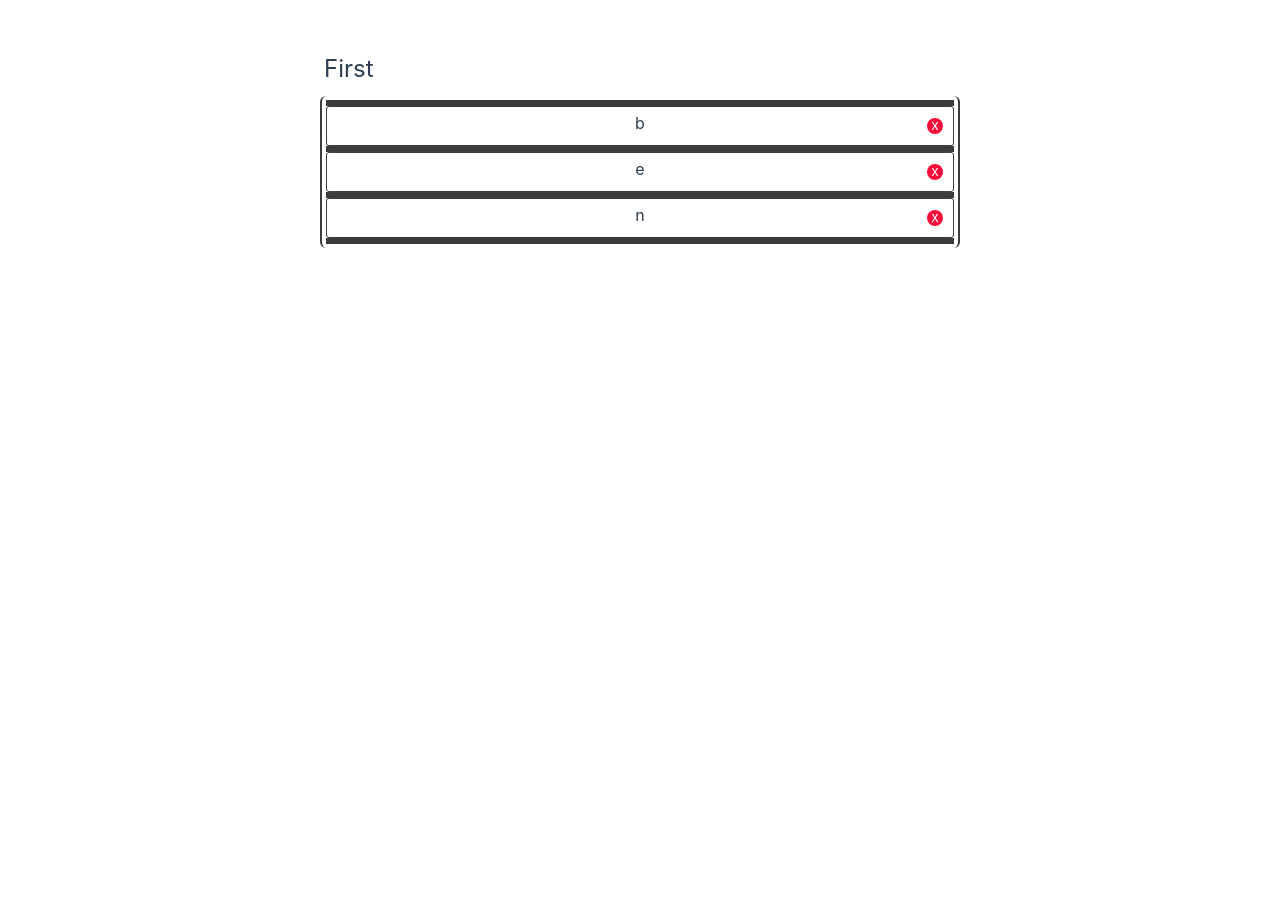
Test: Puzzle view › when adding new answers › should be possible to add one at the top of the list
Click the 1st button with test id "add" at (640, 103), box x1=326 y1=100 x2=954 y2=106
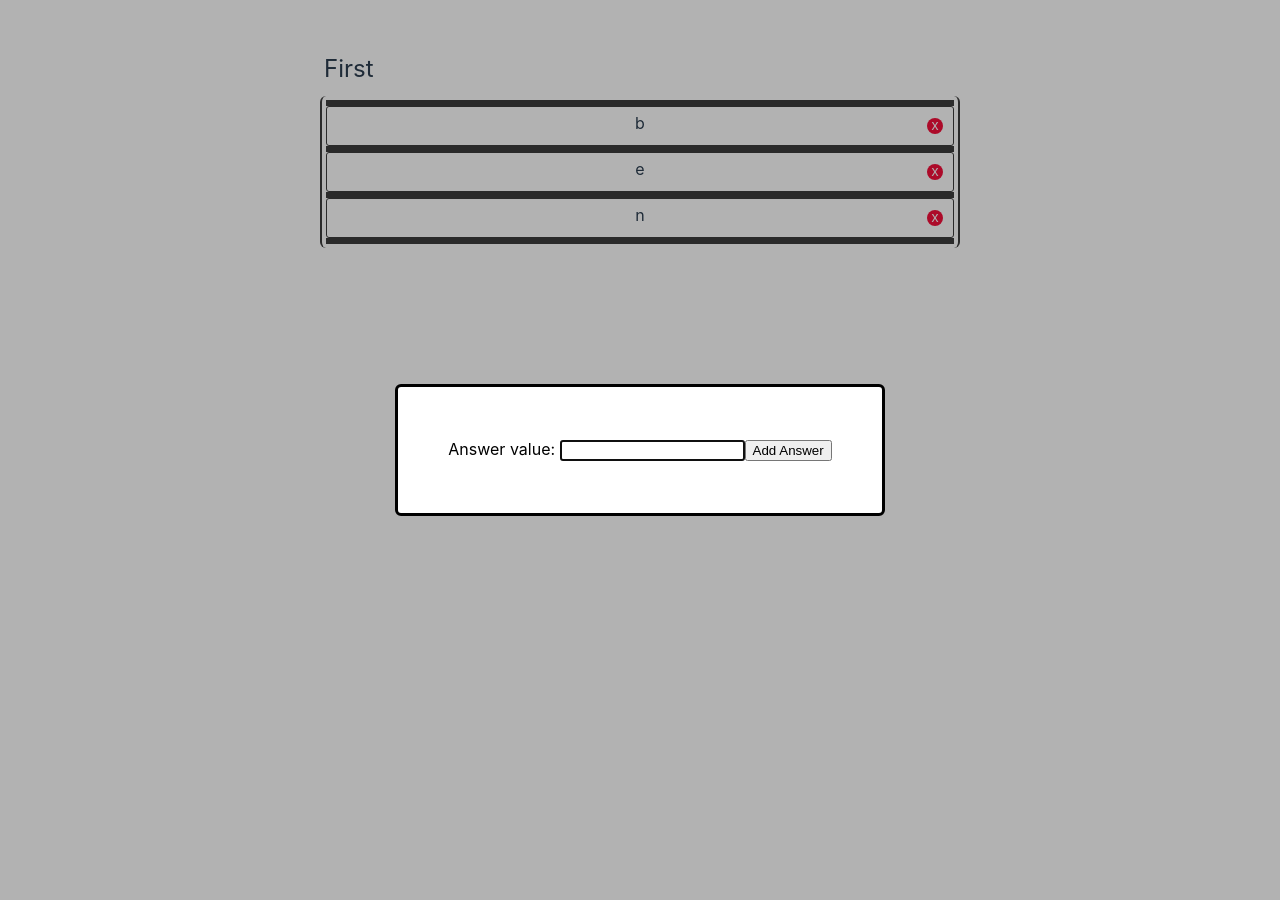
Type "abcd" into the field labelled "Answer value:" at (652, 451), box x1=560 y1=440 x2=745 y2=461
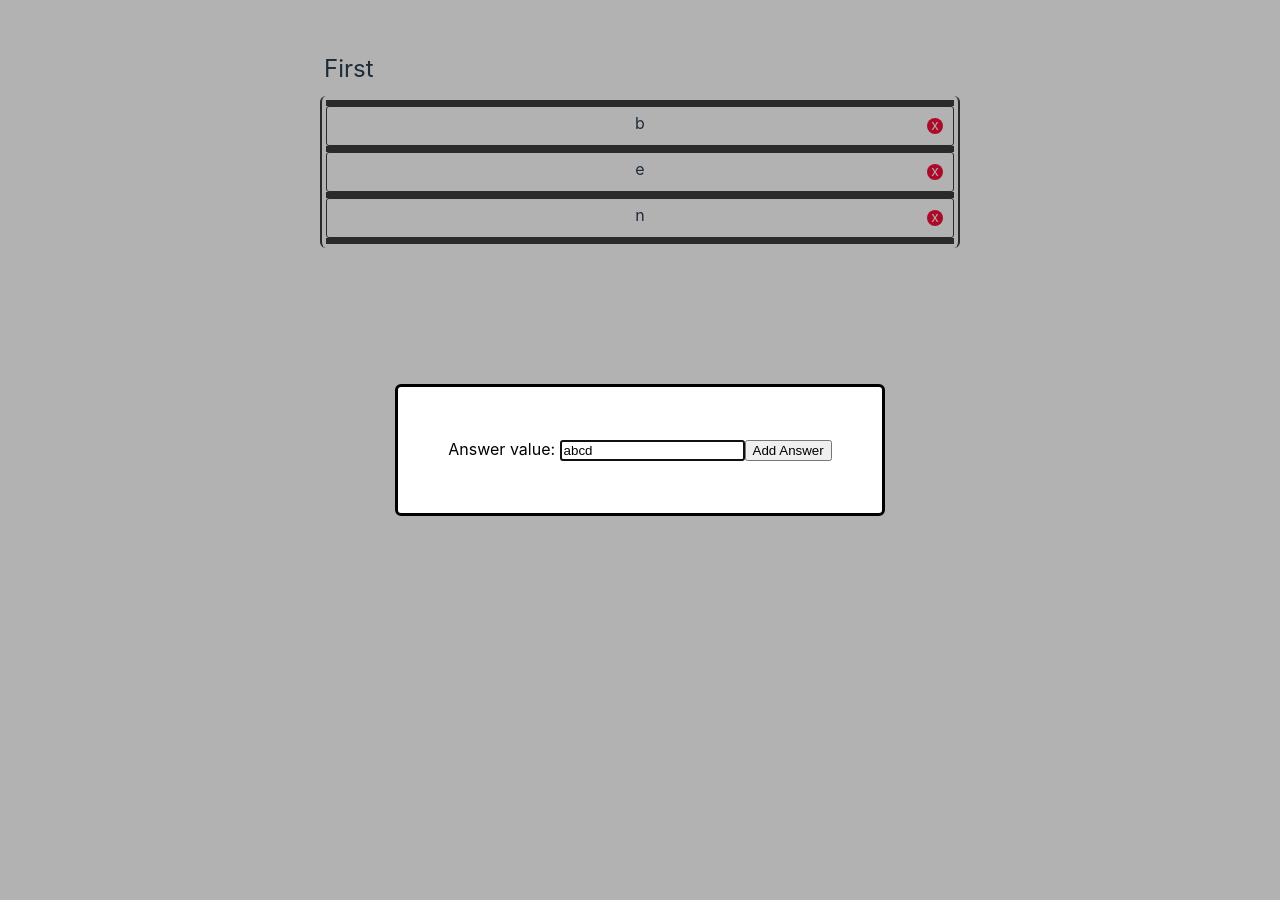
Click the button "Add Answer" at (788, 451), box x1=745 y1=440 x2=832 y2=461
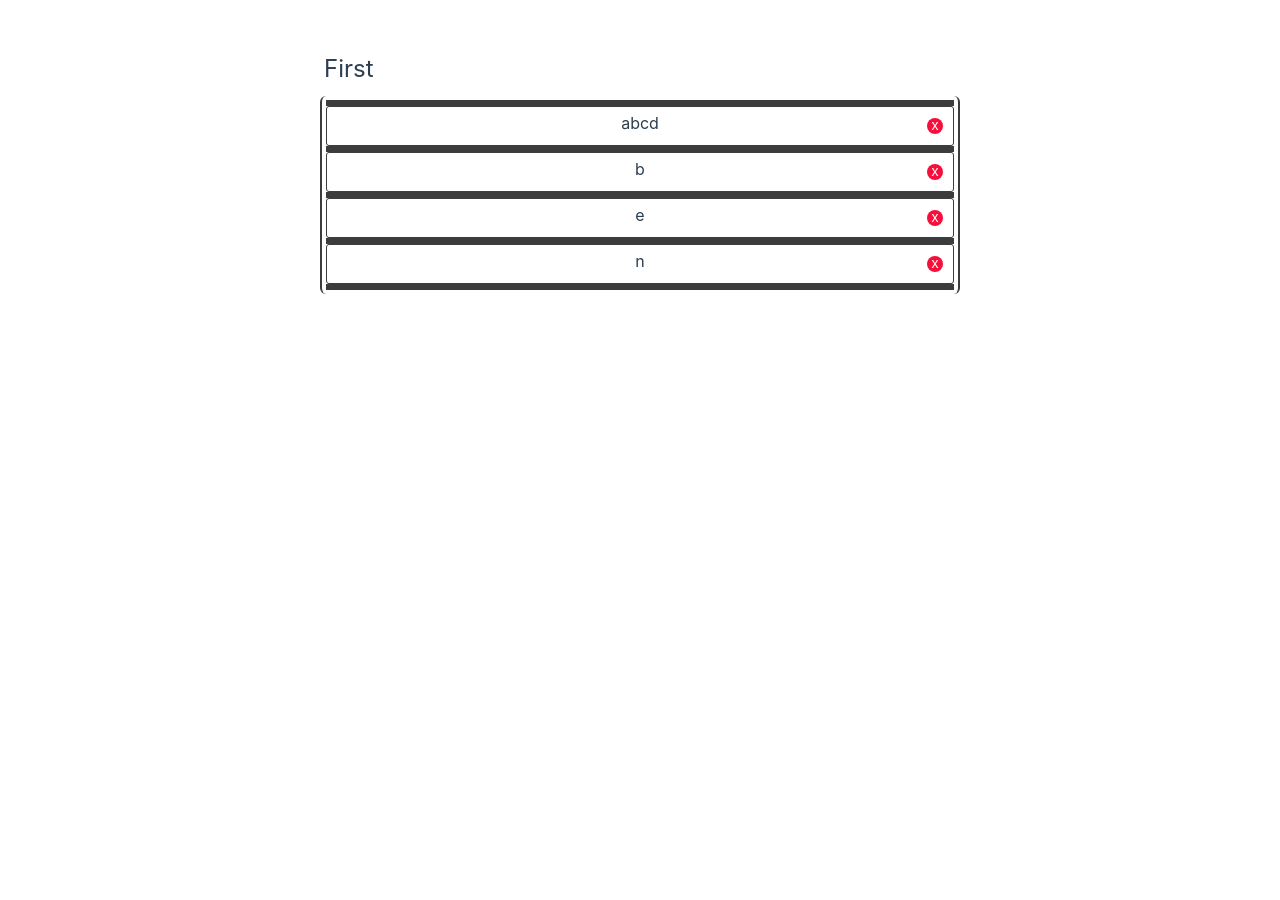
Check: the number of elements with class "answer" is 4, box x1=326 y1=106 x2=954 y2=146; x1=326 y1=152 x2=954 y2=192; x1=326 y1=198 x2=954 y2=238; x1=326 y1=244 x2=954 y2=284
Check: the element with class "answer" shows "abcd", box x1=621 y1=113 x2=659 y2=133
Check: the element with class "answer" shows "b", box x1=635 y1=159 x2=645 y2=179
